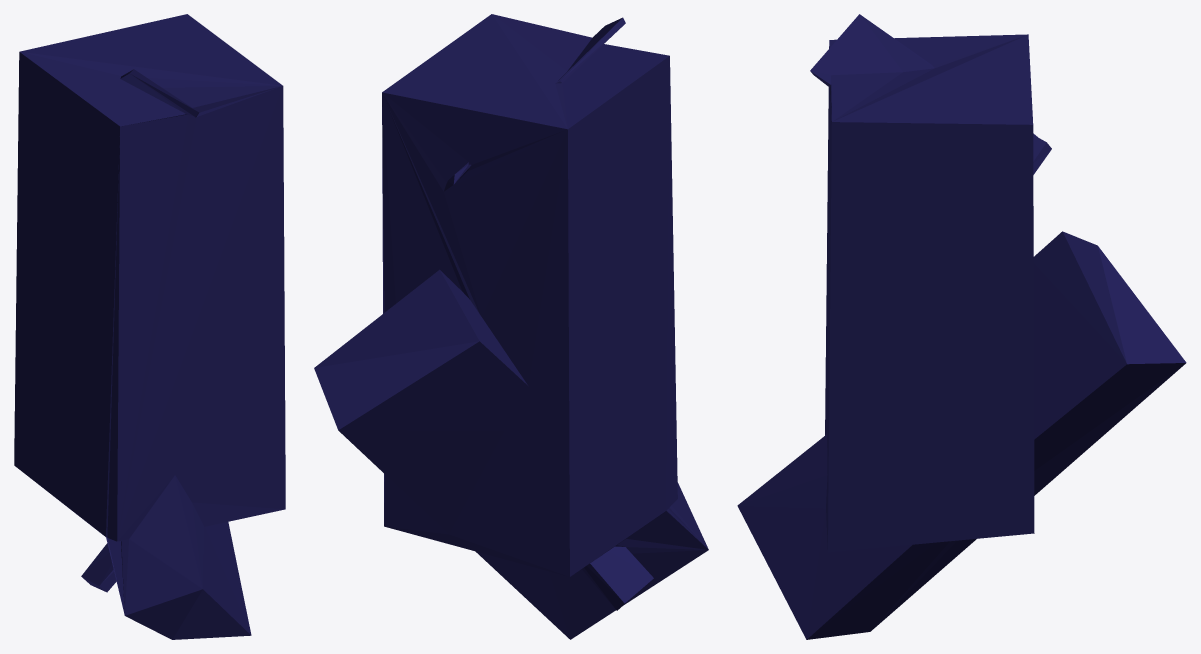
3 renders of one model, left to right at view 1: azimuth 30°, elevation 25°; view 2: azimuth 150°, elevation 25°; view 3: azimuth 270°, elevation 25°, orthographic. The views are drawn at different scales.
Visible parts, largest first — view 1: 680_Cube.2731; view 2: 680_Cube.2731; view 3: 680_Cube.2731.
Part boxes in pixels (box(x1,y1,x2,y2)): 680_Cube.2731: box(14, 14, 285, 639); 680_Cube.2731: box(314, 14, 708, 639); 680_Cube.2731: box(737, 14, 1186, 639).
Bounding box in the file's own units: 6.06 × 16.91 × 11.55.
